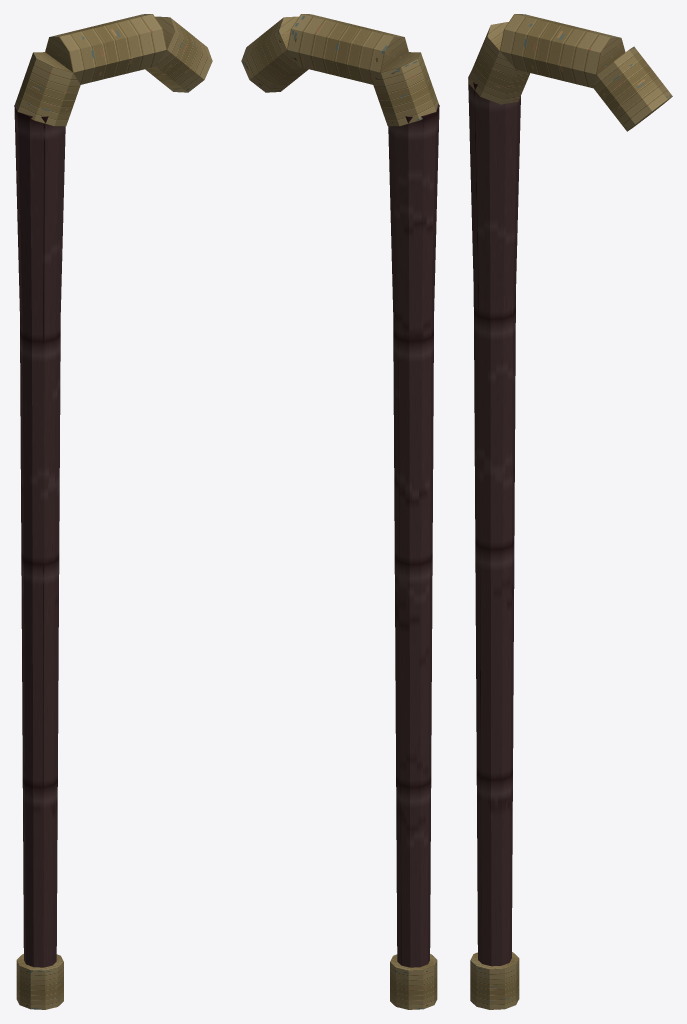
Rendered from MD_126_FathersCane.fbx.
3 views of the same model, side by side, from view 1: azimuth 30°, elevation 25°; view 2: azimuth 150°, elevation 25°; view 3: azimuth 330°, elevation 25° (orthographic). The views are drawn at different scales.
Parts seen in each view (by area): view 1: MD_126_FathersCane_tapered_cane, MD_126_FathersCane_cane_handle_1, MD_126_FathersCane_cane_handle_0, MD_126_FathersCane_cane_handle_2, MD_126_FathersCane_brass_ferrule; view 2: MD_126_FathersCane_tapered_cane, MD_126_FathersCane_cane_handle_1, MD_126_FathersCane_cane_handle_0, MD_126_FathersCane_cane_handle_2, MD_126_FathersCane_brass_ferrule; view 3: MD_126_FathersCane_tapered_cane, MD_126_FathersCane_cane_handle_1, MD_126_FathersCane_cane_handle_2, MD_126_FathersCane_cane_handle_0, MD_126_FathersCane_brass_ferrule.
Part boxes in pixels (left/top/right/bottom): MD_126_FathersCane_tapered_cane: left=14, top=104, right=65, bottom=967; MD_126_FathersCane_cane_handle_1: left=45, top=14, right=166, bottom=84; MD_126_FathersCane_cane_handle_0: left=15, top=52, right=80, bottom=126; MD_126_FathersCane_cane_handle_2: left=145, top=16, right=212, bottom=92; MD_126_FathersCane_brass_ferrule: left=16, top=954, right=63, bottom=1009; MD_126_FathersCane_tapered_cane: left=388, top=104, right=439, bottom=967; MD_126_FathersCane_cane_handle_1: left=287, top=14, right=408, bottom=84; MD_126_FathersCane_cane_handle_0: left=373, top=52, right=438, bottom=126; MD_126_FathersCane_cane_handle_2: left=241, top=16, right=308, bottom=92; MD_126_FathersCane_brass_ferrule: left=390, top=954, right=437, bottom=1009; MD_126_FathersCane_tapered_cane: left=468, top=71, right=520, bottom=966; MD_126_FathersCane_cane_handle_1: left=500, top=14, right=625, bottom=88; MD_126_FathersCane_cane_handle_2: left=593, top=46, right=672, bottom=131; MD_126_FathersCane_cane_handle_0: left=468, top=22, right=530, bottom=104; MD_126_FathersCane_brass_ferrule: left=470, top=952, right=519, bottom=1009.
Size of the model in its own units: 0.2025 by 0.976 by 0.052.
Materials: 2 (2 with a texture image).
